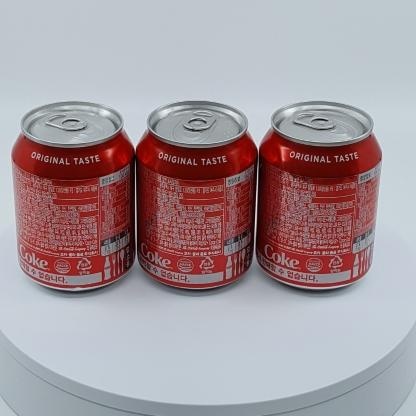-----------------245ml: (255, 100, 382, 291), (11, 100, 135, 291), (135, 100, 258, 290)
